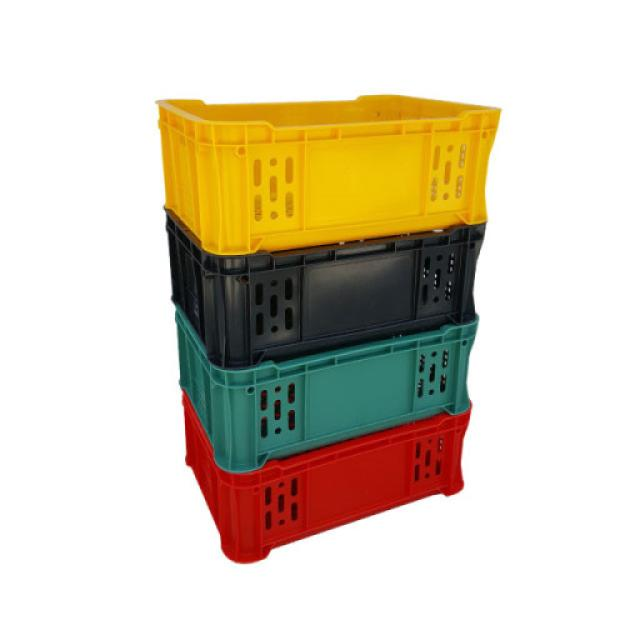basket: (158, 75, 511, 260), (173, 391, 471, 579), (161, 211, 486, 380), (170, 308, 479, 484)
